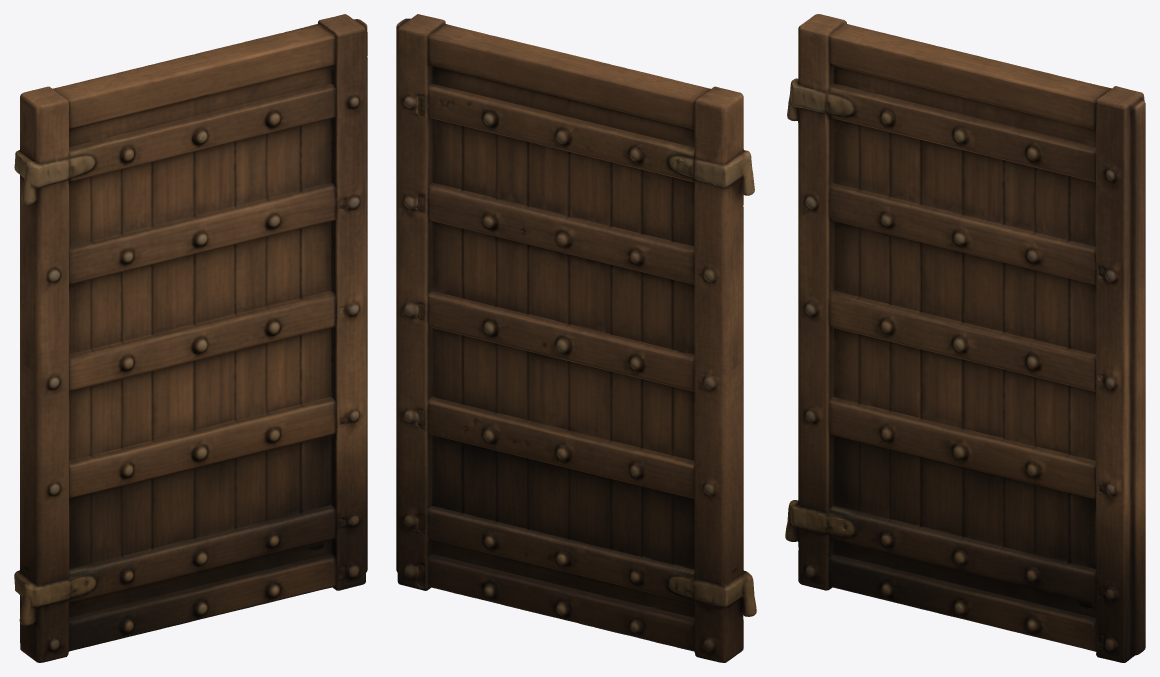
The model's file is ARCH-013.glb.
The picture shows the model from 3 angles, left to right: view 1: azimuth 30°, elevation 25°; view 2: azimuth 150°, elevation 25°; view 3: azimuth 330°, elevation 25°; orthographic projection.
Visible parts, largest first — view 1: world; view 2: world; view 3: world.
Boxes of the visible parts, x1,y1,x2,y2 form: world: (14, 14, 367, 662); world: (396, 14, 756, 662); world: (785, 14, 1145, 662).
Size of the model in its own units: 2 by 3.05 by 0.2432.
1 material, 1 textured.
